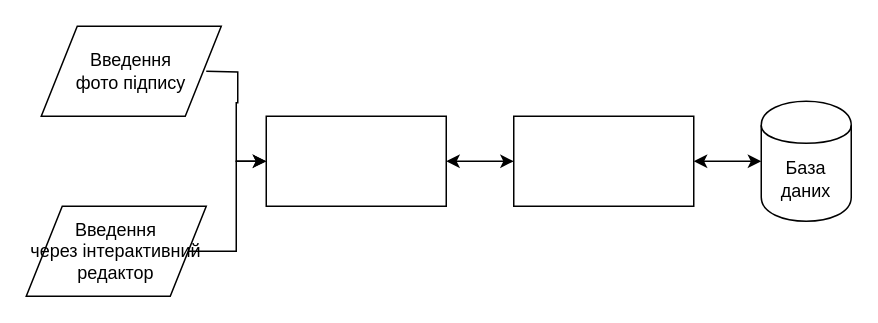
Image size: 878x323. Some labels were removed from this diagram. The shapes that lost their labels are listed below. From the top down, each one's box as (x1, y1, x2, y2) in pixels, then its label:
(265, 115, 446, 206): Клієнтський додаток (браузер)
(512, 115, 694, 206): Сервер (віртуальна машина)
